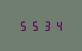five: (18, 20, 28, 31), (29, 20, 39, 31)
four: (51, 20, 61, 31)
three: (40, 20, 50, 31)
